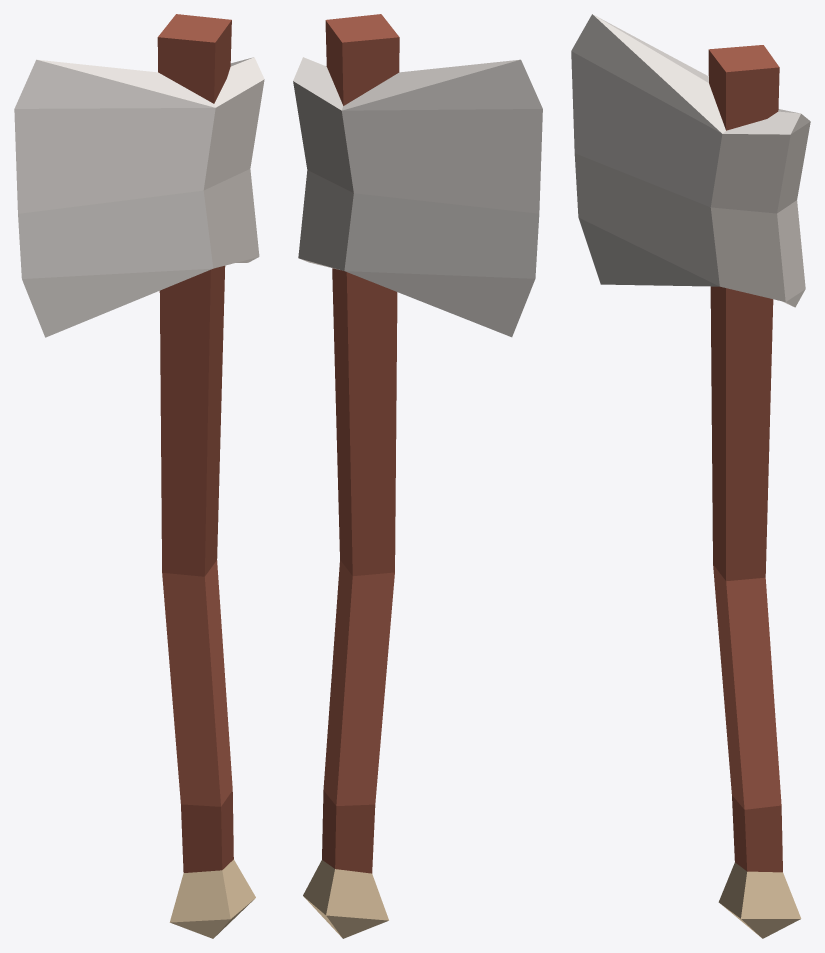
The model's file is axe_3.glb.
The picture shows the model from 3 angles, left to right: view 1: azimuth 30°, elevation 25°; view 2: azimuth 150°, elevation 25°; view 3: azimuth 330°, elevation 25°; orthographic projection. The views are drawn at different scales.
Parts seen in each view (by area): view 1: axe_3.001; view 2: axe_3.001; view 3: axe_3.001.
Part boxes in pixels (left/top/right/bottom): axe_3.001: left=14, top=14, right=264, bottom=938; axe_3.001: left=293, top=14, right=542, bottom=938; axe_3.001: left=571, top=14, right=810, bottom=938.
Bounding box in the file's own units: 0.2733 × 1 × 0.0858.
Materials: 1 (1 with a texture image).
